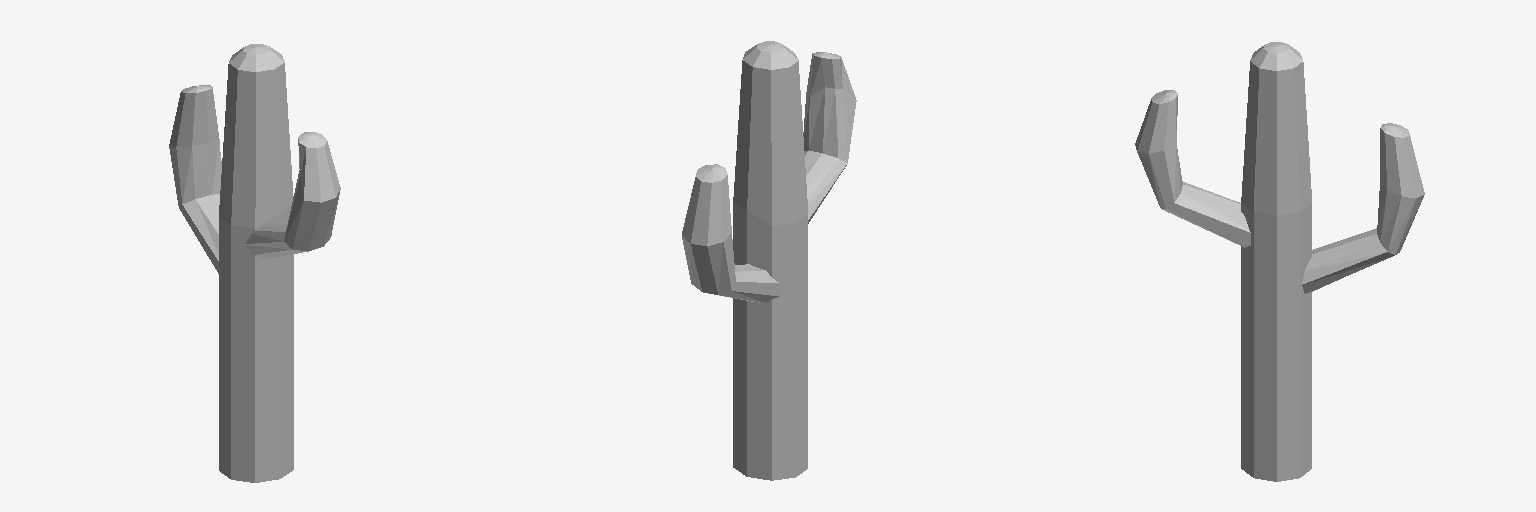
Rendered from Cactus.obj.
The picture shows the model from 3 angles: view 1: azimuth 30°, elevation 25°; view 2: azimuth 150°, elevation 25°; view 3: azimuth 270°, elevation 25°; orthographic projection.
Size of the model in its own units: 1.24 by 7.64 by 4.77.